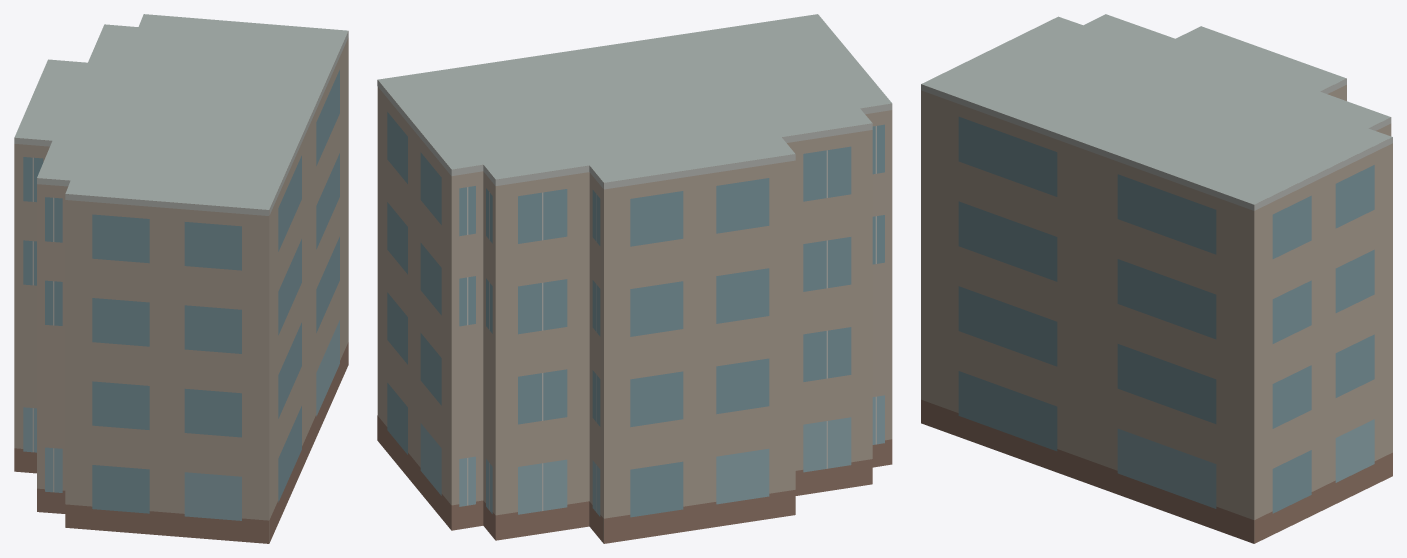
Rendered from survey-upis-32669080.glb.
3 views of the same model, side by side, from view 1: azimuth 30°, elevation 25°; view 2: azimuth 150°, elevation 25°; view 3: azimuth 270°, elevation 25° (orthographic). The views are drawn at different scales.
Parts seen in each view (by area): view 1: survey-upis-32669080.tmp; view 2: survey-upis-32669080.tmp; view 3: survey-upis-32669080.tmp.
Part boxes in pixels (bbox=[...]): survey-upis-32669080.tmp: bbox=[14, 14, 348, 543]; survey-upis-32669080.tmp: bbox=[377, 14, 892, 543]; survey-upis-32669080.tmp: bbox=[921, 14, 1392, 543].
Bounding box in the file's own units: 16.11 × 13.35 × 16.84.
